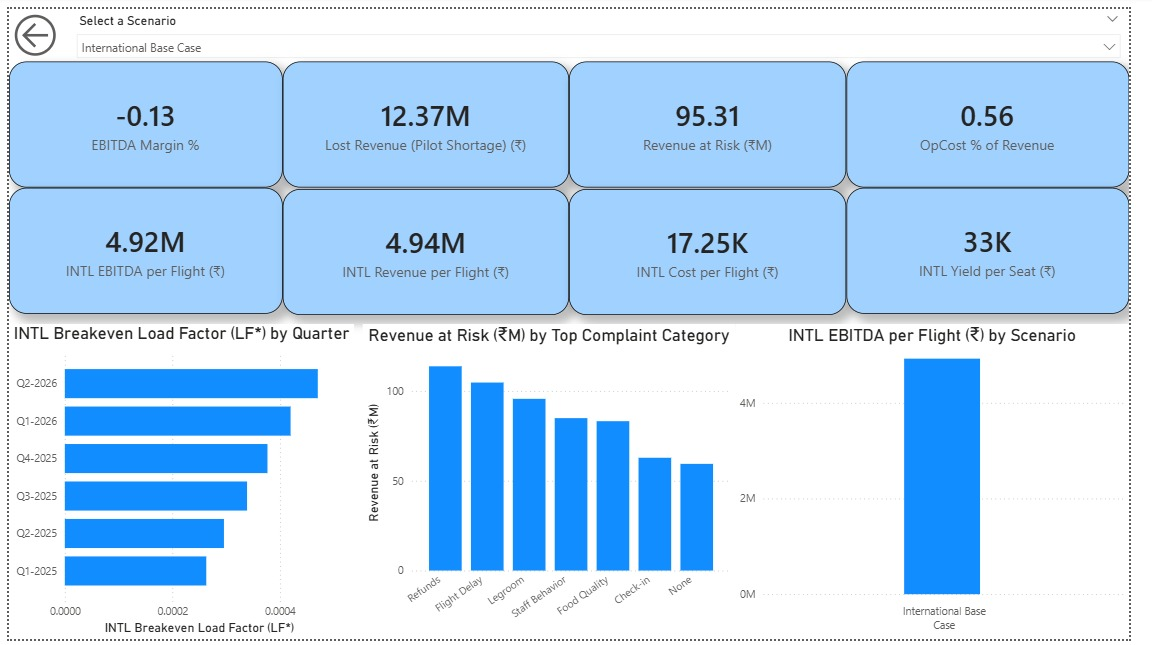

Layout of this report page (visuals, bound fields, positions):
{"tool":"powerbi","page":{"name":"intl stats","canvas":[1280,720],"ordinal":1},"visuals":[{"type":"cardVisual","fields":{"Data":["_measures (2).EBITDA Margin %"]},"box":[0,60,312.9,144.3],"z":0,"group":"g1"},{"type":"slicer","fields":{"Values":["international data.Scenario_Name"]},"box":[67.1,0,1212.9,60],"z":0},{"type":"cardVisual","fields":{"Data":["_measures (2).Lost Revenue (Pilot Shortage) (₹)"]},"box":[312.9,60,327.1,144.3],"z":1000,"group":"g1"},{"type":"group","id":"g1","title":"Group 1","box":[0,60,1280,290],"z":1000},{"type":"barChart","fields":{"Y":["_measures (2).INTL Breakeven Load Factor (LF*)"],"Category":["Quarterly fin.Quarter"]},"box":[0,360,394.3,360],"z":1001},{"type":"clusteredColumnChart","title":"Revenue at Risk (₹M) by Top Complaint Category","fields":{"Category":["customerexp.Top_Complaint_Category"],"Y":["_measures (2).Revenue at Risk (₹M)"]},"box":[404.3,360,425.7,360],"z":1002},{"type":"actionButton","box":[0,0,100,60],"z":1003},{"type":"clusteredColumnChart","fields":{"Category":["international data.Scenario_Name"],"Y":["_measures (2).INTL EBITDA per Flight (₹)"]},"box":[830,360,450,360],"z":1004},{"type":"cardVisual","fields":{"Data":["_measures (2).Revenue at Risk (₹M)"]},"box":[640,60,317.1,144.3],"z":2000,"group":"g1"},{"type":"cardVisual","fields":{"Data":["_measures (2).OpCost % of Revenue"]},"box":[957.1,60,322.9,144.3],"z":3000,"group":"g1"},{"type":"cardVisual","fields":{"Data":["_measures (2).INTL EBITDA per Flight (₹)"]},"box":[0,204.3,312.9,144.3],"z":4000,"group":"g1"},{"type":"cardVisual","fields":{"Data":["_measures (2).INTL Revenue per Flight (₹)"]},"box":[312.9,205.7,327.1,144.3],"z":5000,"group":"g1"},{"type":"cardVisual","fields":{"Data":["_measures (2).INTL Cost per Flight (₹)"]},"box":[640,205.7,317.1,144.3],"z":6000,"group":"g1"},{"type":"cardVisual","fields":{"Data":["Quarterly fin.INTL Yield per Seat (₹)"]},"box":[957.1,204.3,322.9,144.3],"z":7000,"group":"g1"}]}

Visuals, with their boxes in screenshot pixels (x1, y1, x2, y2), scaled from the page's 1280x720 canvas onto the 1152x645 screenshot:
cardVisual - _measures (2).EBITDA Margin %: <region>0, 54, 282, 183</region>
slicer - international data.Scenario_Name: <region>60, 0, 1151, 54</region>
cardVisual - _measures (2).Lost Revenue (Pilot Shortage) (₹): <region>282, 54, 576, 183</region>
"Group 1" group: <region>0, 54, 1151, 314</region>
barChart - _measures (2).INTL Breakeven Load Factor (LF*) x Quarterly fin.Quarter: <region>0, 322, 355, 644</region>
"Revenue at Risk (₹M) by Top Complaint Category" clusteredColumnChart: <region>364, 322, 747, 644</region>
actionButton: <region>0, 0, 90, 54</region>
clusteredColumnChart - international data.Scenario_Name x _measures (2).INTL EBITDA per Flight (₹): <region>747, 322, 1151, 644</region>
cardVisual - _measures (2).Revenue at Risk (₹M): <region>576, 54, 861, 183</region>
cardVisual - _measures (2).OpCost % of Revenue: <region>861, 54, 1151, 183</region>
cardVisual - _measures (2).INTL EBITDA per Flight (₹): <region>0, 183, 282, 312</region>
cardVisual - _measures (2).INTL Revenue per Flight (₹): <region>282, 184, 576, 314</region>
cardVisual - _measures (2).INTL Cost per Flight (₹): <region>576, 184, 861, 314</region>
cardVisual - Quarterly fin.INTL Yield per Seat (₹): <region>861, 183, 1151, 312</region>
